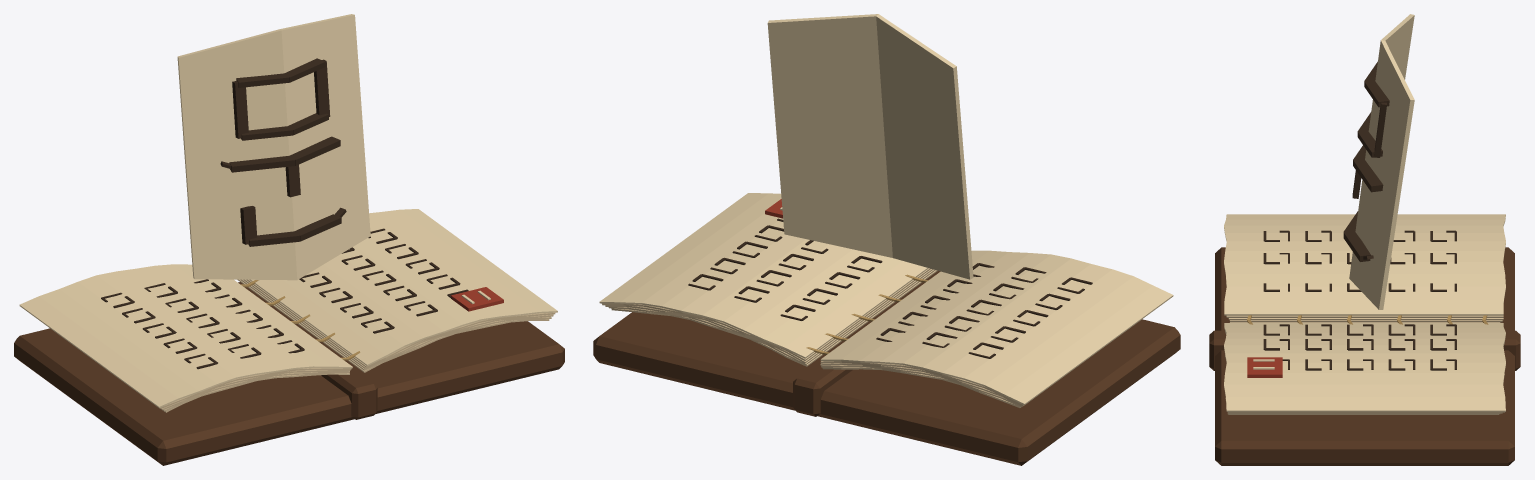
File: sentence_core.glb
3 renders of one model, left to right at view 1: azimuth 30°, elevation 25°; view 2: azimuth 150°, elevation 25°; view 3: azimuth 270°, elevation 25°, orthographic. The views are drawn at different scales.
Visible parts, largest first — view 1: BookPages, CorePaper, Binding, CoreInk, SentenceInk, Seal; view 2: BookPages, CorePaper, Binding, SentenceInk; view 3: BookPages, Binding, CorePaper, SentenceInk, CoreInk, Seal.
Boxes of the visible parts, x1=… form: BookPages: x1=19, y1=209, x2=557, y2=412; CorePaper: x1=177, y1=14, x2=370, y2=280; Binding: x1=14, y1=282, x2=564, y2=465; CoreInk: x1=220, y1=58, x2=346, y2=246; SentenceInk: x1=101, y1=228, x2=468, y2=369; Seal: x1=451, y1=287, x2=503, y2=311; BookPages: x1=599, y1=193, x2=1173, y2=407; CorePaper: x1=767, y1=14, x2=973, y2=279; Binding: x1=593, y1=271, x2=1180, y2=465; SentenceInk: x1=688, y1=218, x2=1092, y2=358; BookPages: x1=1224, y1=214, x2=1505, y2=414; Binding: x1=1209, y1=247, x2=1520, y2=465; CorePaper: x1=1349, y1=14, x2=1414, y2=309; SentenceInk: x1=1263, y1=230, x2=1456, y2=370; CoreInk: x1=1343, y1=61, x2=1389, y2=261; Seal: x1=1247, y1=357, x2=1282, y2=377.
Size of the model in its own units: 2.54 by 1.96 by 1.68.
